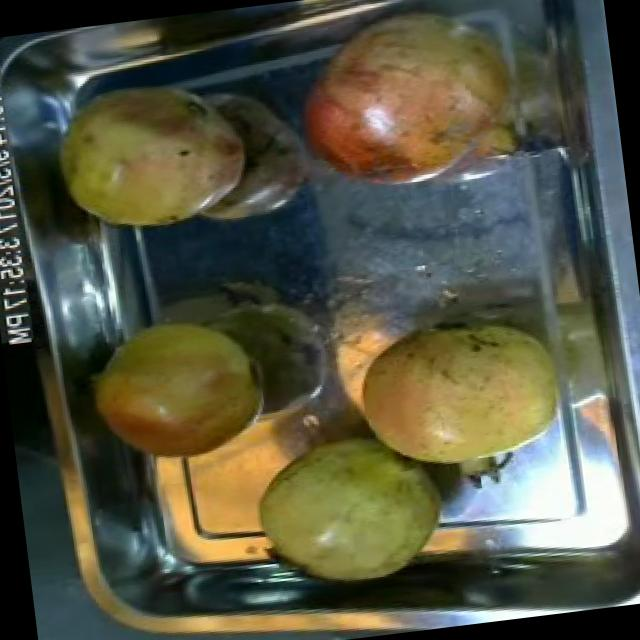fruit: (282, 4, 548, 206), (334, 303, 582, 505), (232, 412, 458, 598), (42, 65, 267, 245), (76, 301, 282, 479)
